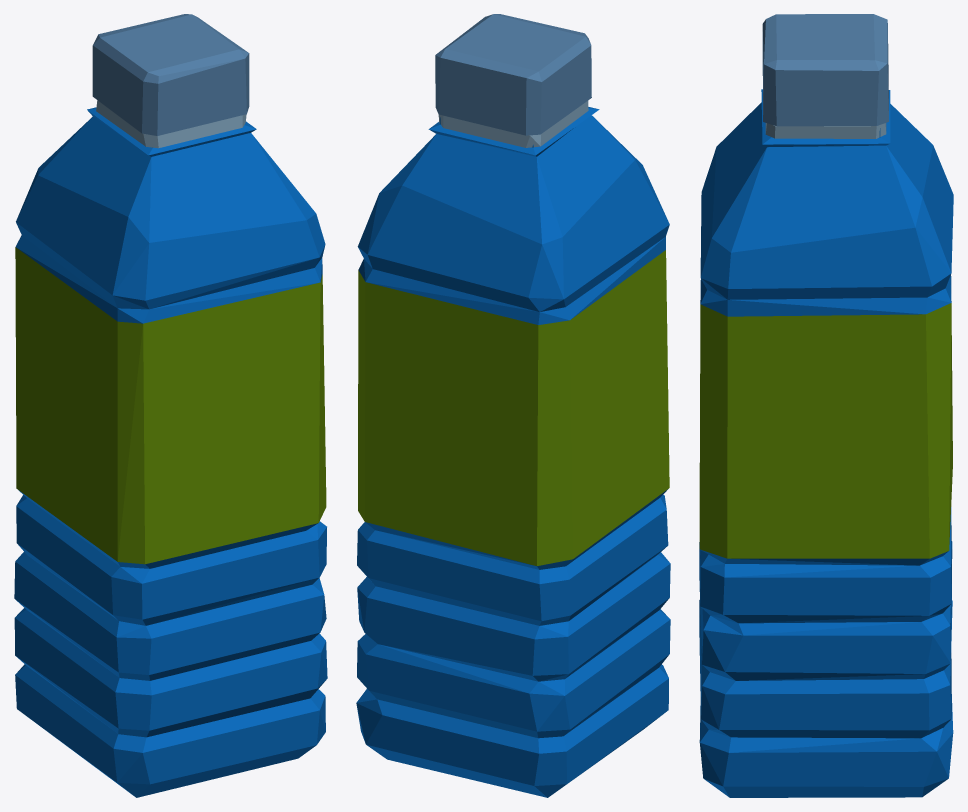
Rendered from PlasticBottle01.fbx.
3 views of the same model, side by side, from view 1: azimuth 30°, elevation 25°; view 2: azimuth 150°, elevation 25°; view 3: azimuth 270°, elevation 25° (orthographic). The views are drawn at different scales.
Parts seen in each view (by area): view 1: PlasticBottle01LowPoly, PlasticBottleLid01LowPoly; view 2: PlasticBottle01LowPoly, PlasticBottleLid01LowPoly; view 3: PlasticBottle01LowPoly, PlasticBottleLid01LowPoly.
Part boxes in pixels (x1=…): PlasticBottle01LowPoly: x1=14, y1=107, x2=327, y2=797; PlasticBottleLid01LowPoly: x1=92, y1=14, x2=249, y2=148; PlasticBottle01LowPoly: x1=356, y1=107, x2=670, y2=797; PlasticBottleLid01LowPoly: x1=435, y1=14, x2=591, y2=147; PlasticBottle01LowPoly: x1=699, y1=89, x2=953, y2=797; PlasticBottleLid01LowPoly: x1=762, y1=14, x2=888, y2=138.
Bounding box in the file's own units: 9.7 × 30.29 × 9.7.
